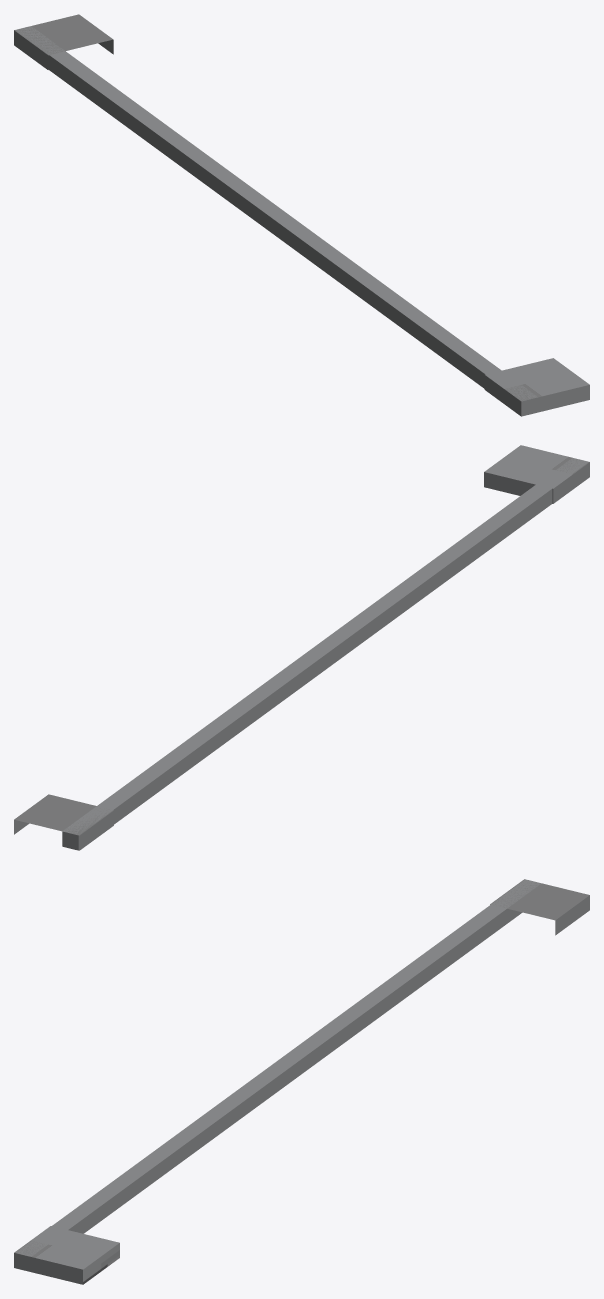
3 renders of one model, top to bottom at view 1: azimuth 30°, elevation 25°; view 2: azimuth 150°, elevation 25°; view 3: azimuth 330°, elevation 25°, orthographic.
Size of the model in its own units: 0.19 by 0.04 by 2.43.
